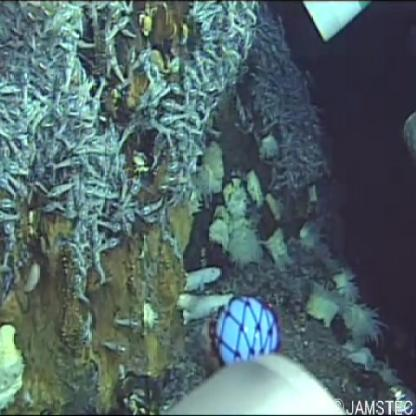Bio: (1, 1, 259, 252), (171, 264, 240, 324)
Rov: (173, 296, 337, 416)
